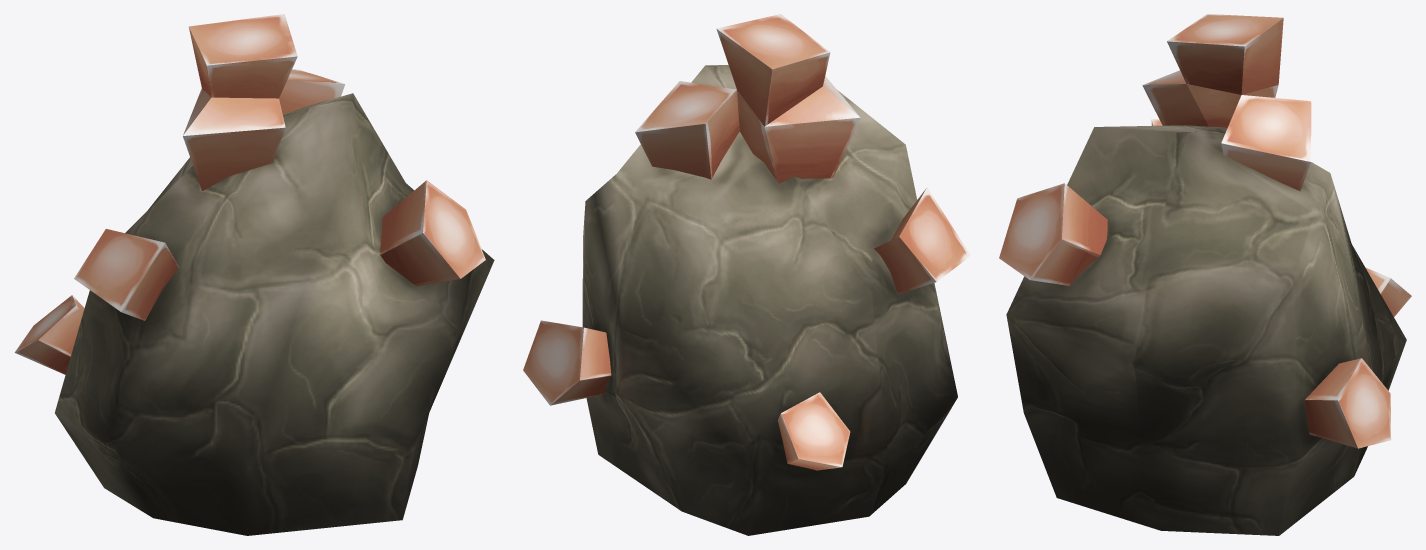
The model's file is ore_medium_bronze.fbx.
3 views of the same model, side by side, from view 1: azimuth 30°, elevation 25°; view 2: azimuth 150°, elevation 25°; view 3: azimuth 270°, elevation 25° (orthographic).
Visible parts, largest first — view 1: ore_medium_bronze:Mesh; view 2: ore_medium_bronze:Mesh; view 3: ore_medium_bronze:Mesh.
Part boxes in pixels (x1,y1,x2,y2): ore_medium_bronze:Mesh: (14, 14, 494, 535); ore_medium_bronze:Mesh: (523, 14, 970, 535); ore_medium_bronze:Mesh: (999, 14, 1411, 535).
Bounding box in the file's own units: 3.89 × 4.44 × 3.78.
